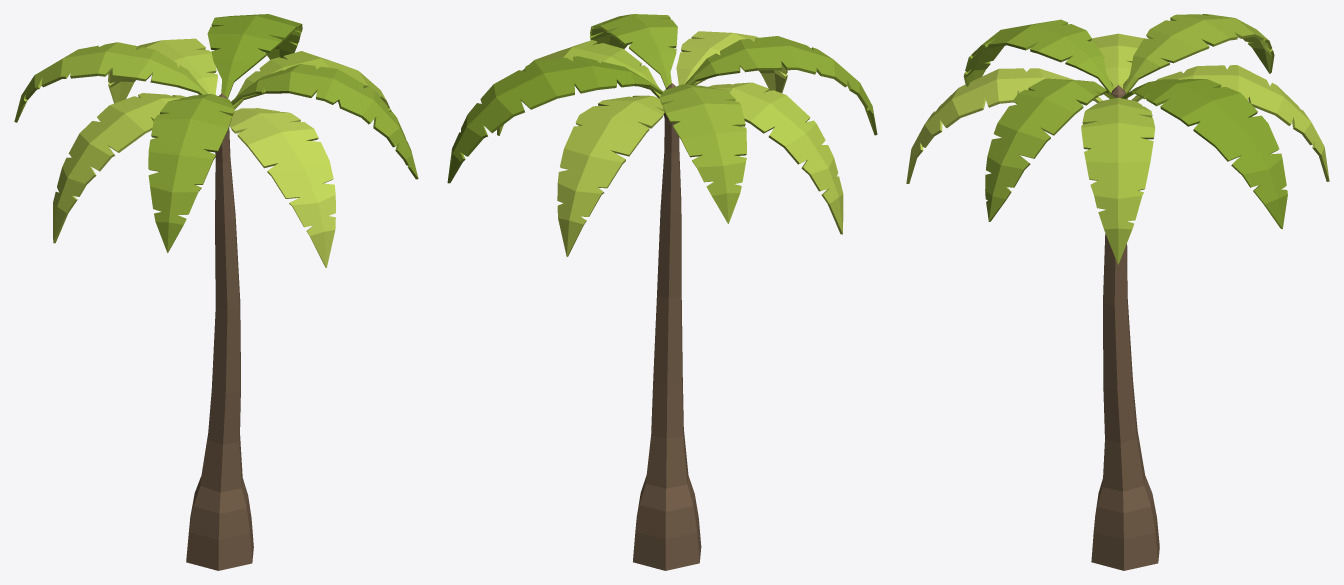
Rendered from NHP_Tree_LP_G1_5m_01.fbx.
The picture shows the model from 3 angles, left to right: view 1: azimuth 30°, elevation 25°; view 2: azimuth 150°, elevation 25°; view 3: azimuth 270°, elevation 25°; orthographic projection.
Visible parts, largest first — view 1: NHP_Tree_LP_G1_5m_01_LOD0; view 2: NHP_Tree_LP_G1_5m_01_LOD0; view 3: NHP_Tree_LP_G1_5m_01_LOD0.
Part boxes in pixels (x1,y1,x2,y2): NHP_Tree_LP_G1_5m_01_LOD0: (14, 14, 418, 570); NHP_Tree_LP_G1_5m_01_LOD0: (447, 14, 877, 570); NHP_Tree_LP_G1_5m_01_LOD0: (906, 14, 1329, 570).
Size of what is drawn, in the model's own units: 4.01 by 5.52 by 4.25.
